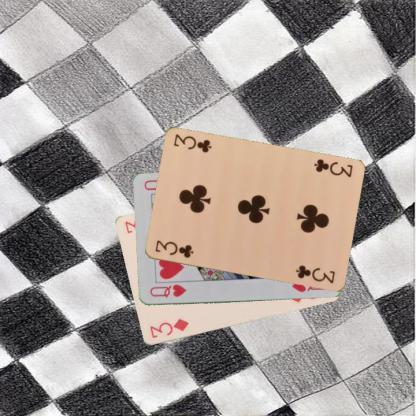3c: (310, 156, 354, 180), (152, 238, 194, 260)
3d: (146, 316, 190, 340)
Qh: (148, 282, 188, 300)
